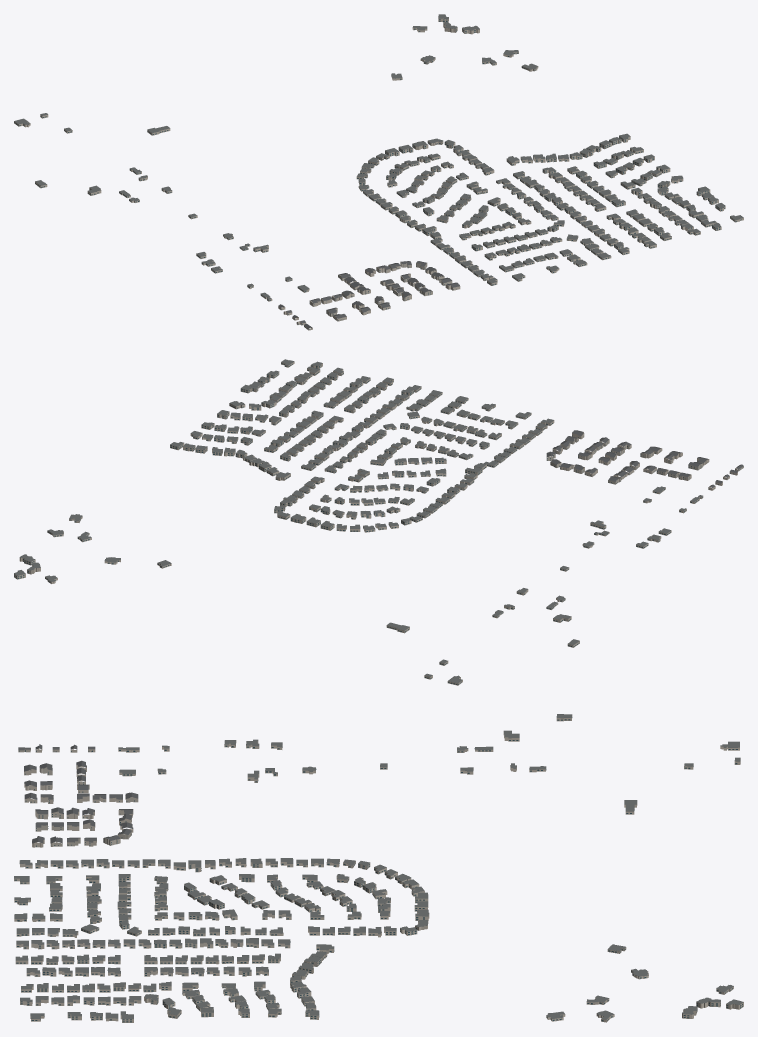
3 renders of one model, top to bottom at view 1: azimuth 30°, elevation 25°; view 2: azimuth 150°, elevation 25°; view 3: azimuth 270°, elevation 25°, orthographic. The views are drawn at different scales.
Visible parts, largest first — view 1: Buildings (4, 8) Masonry brick, Buildings (4, 8) Roof membrane, Buildings (4, 8) Architectural tinted glass, Buildings (4, 8) Roof shingles, Buildings (4, 8) Metal coping; view 2: Buildings (4, 8) Masonry brick, Buildings (4, 8) Roof membrane, Buildings (4, 8) Architectural tinted glass, Buildings (4, 8) Roof shingles, Buildings (4, 8) Metal coping; view 3: Buildings (4, 8) Roof membrane, Buildings (4, 8) Masonry brick, Buildings (4, 8) Architectural tinted glass, Buildings (4, 8) Roof shingles, Buildings (4, 8) Metal coping, Buildings (4, 8) House siding.
Part boxes in pixels (left/top/right/bottom): Buildings (4, 8) Masonry brick: left=14, top=17, right=743, bottom=325; Buildings (4, 8) Roof membrane: left=14, top=14, right=743, bottom=299; Buildings (4, 8) Architectural tinted glass: left=14, top=19, right=741, bottom=329; Buildings (4, 8) Roof shingles: left=278, top=261, right=459, bottom=328; Buildings (4, 8) Metal coping: left=27, top=18, right=743, bottom=293; Buildings (4, 8) Masonry brick: left=14, top=361, right=737, bottom=685; Buildings (4, 8) Roof membrane: left=14, top=359, right=702, bottom=683; Buildings (4, 8) Architectural tinted glass: left=14, top=363, right=740, bottom=684; Buildings (4, 8) Roof shingles: left=546, top=430, right=743, bottom=487; Buildings (4, 8) Metal coping: left=14, top=364, right=664, bottom=677; Buildings (4, 8) Roof membrane: left=14, top=714, right=743, bottom=1019; Buildings (4, 8) Masonry brick: left=14, top=715, right=743, bottom=1022; Buildings (4, 8) Architectural tinted glass: left=14, top=717, right=742, bottom=1022; Buildings (4, 8) Roof shingles: left=18, top=744, right=138, bottom=843; Buildings (4, 8) Metal coping: left=14, top=714, right=740, bottom=1018; Buildings (4, 8) House siding: left=18, top=748, right=138, bottom=846.
Bounding box in the file's own units: 1008 × 13.28 × 1016.
